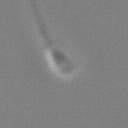normal: (27, 1, 57, 45)
